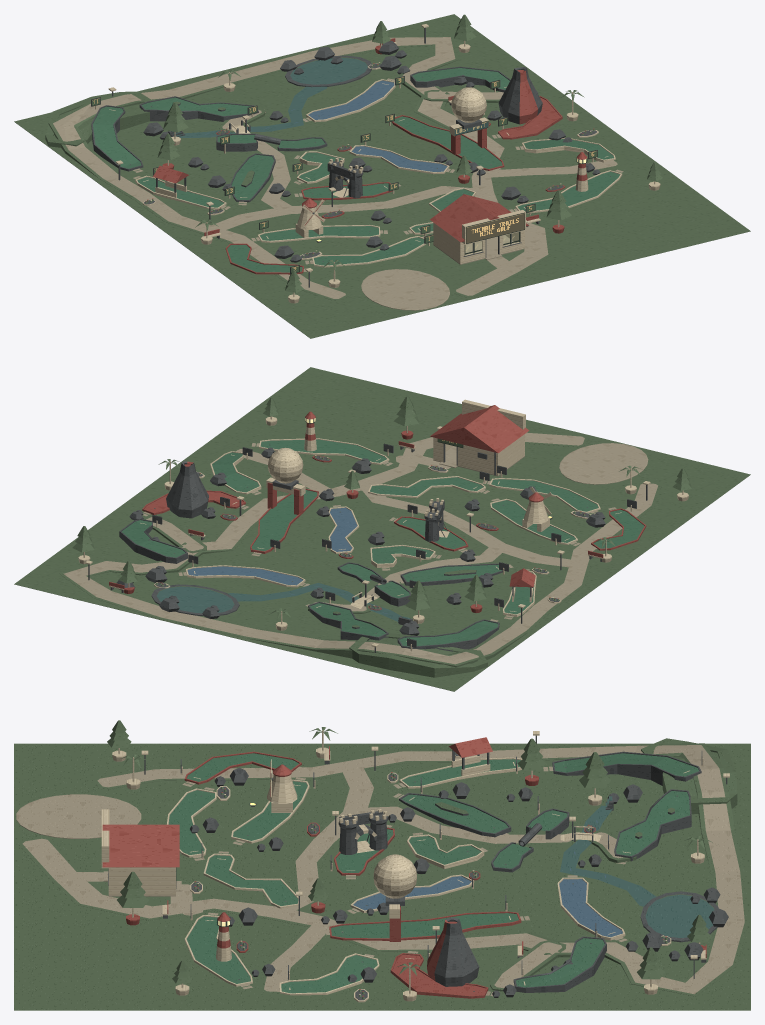
Rendered from thimble-trails-1990.glb.
3 renders of one model, top to bottom at view 1: azimuth 30°, elevation 25°; view 2: azimuth 150°, elevation 25°; view 3: azimuth 270°, elevation 25°, orthographic. The views are drawn at different scales.
Visible parts, largest first — view 1: lot, putting_lanes, course_obstacles, ticket_hut, statue_pad, sign_name; view 2: lot, putting_lanes, ticket_hut, course_obstacles, statue_pad; view 3: lot, putting_lanes, course_obstacles, ticket_hut, statue_pad, Gate turret.001, Covered bridge roof, Gate turret.
Boxes of the visible parts, bbox=[...] form: lot: bbox=[14, 14, 750, 338]; putting_lanes: bbox=[91, 66, 622, 274]; course_obstacles: bbox=[295, 67, 588, 237]; ticket_hut: bbox=[430, 194, 528, 264]; statue_pad: bbox=[361, 269, 449, 310]; sign_name: bbox=[466, 212, 524, 243]; lot: bbox=[14, 367, 750, 691]; putting_lanes: bbox=[119, 438, 646, 651]; ticket_hut: bbox=[430, 399, 529, 476]; course_obstacles: bbox=[166, 411, 549, 531]; statue_pad: bbox=[559, 443, 648, 484]; lot: bbox=[14, 738, 750, 1010]; putting_lanes: bbox=[167, 751, 703, 998]; course_obstacles: bbox=[216, 764, 479, 986]; ticket_hut: bbox=[101, 809, 181, 896]; statue_pad: bbox=[16, 794, 141, 838]; Gate turret.001: bbox=[338, 818, 358, 854]; Covered bridge roof: bbox=[449, 737, 492, 757]; Gate turret: bbox=[368, 813, 388, 850].
Size of what is drawn, in the model's own units: 60 by 7.98 by 70.
11 materials, 11 textured.
